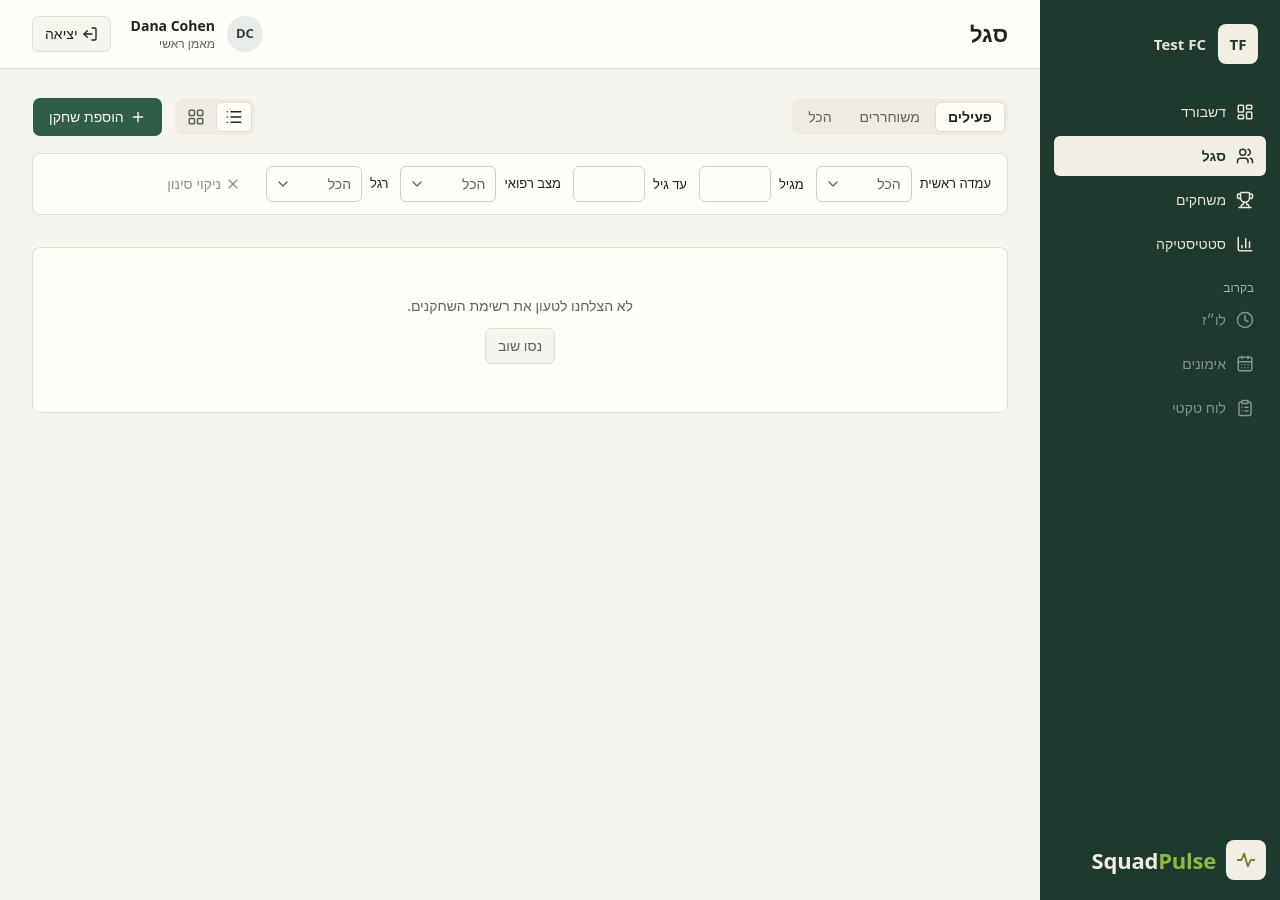
the list's states › shows an error with a retry when the list fails, and the retry can succeed
Check: the text "לא הצלחנו לטעון את רשימת השחקנים." is shown, box [407,296,633,316]
Check: the text "מוצג" is not shown
What coordinates should you click on to do the following:
click the button "נסו שוב"
I would click on:
 (520, 346)
Its box is [485,328,555,364].
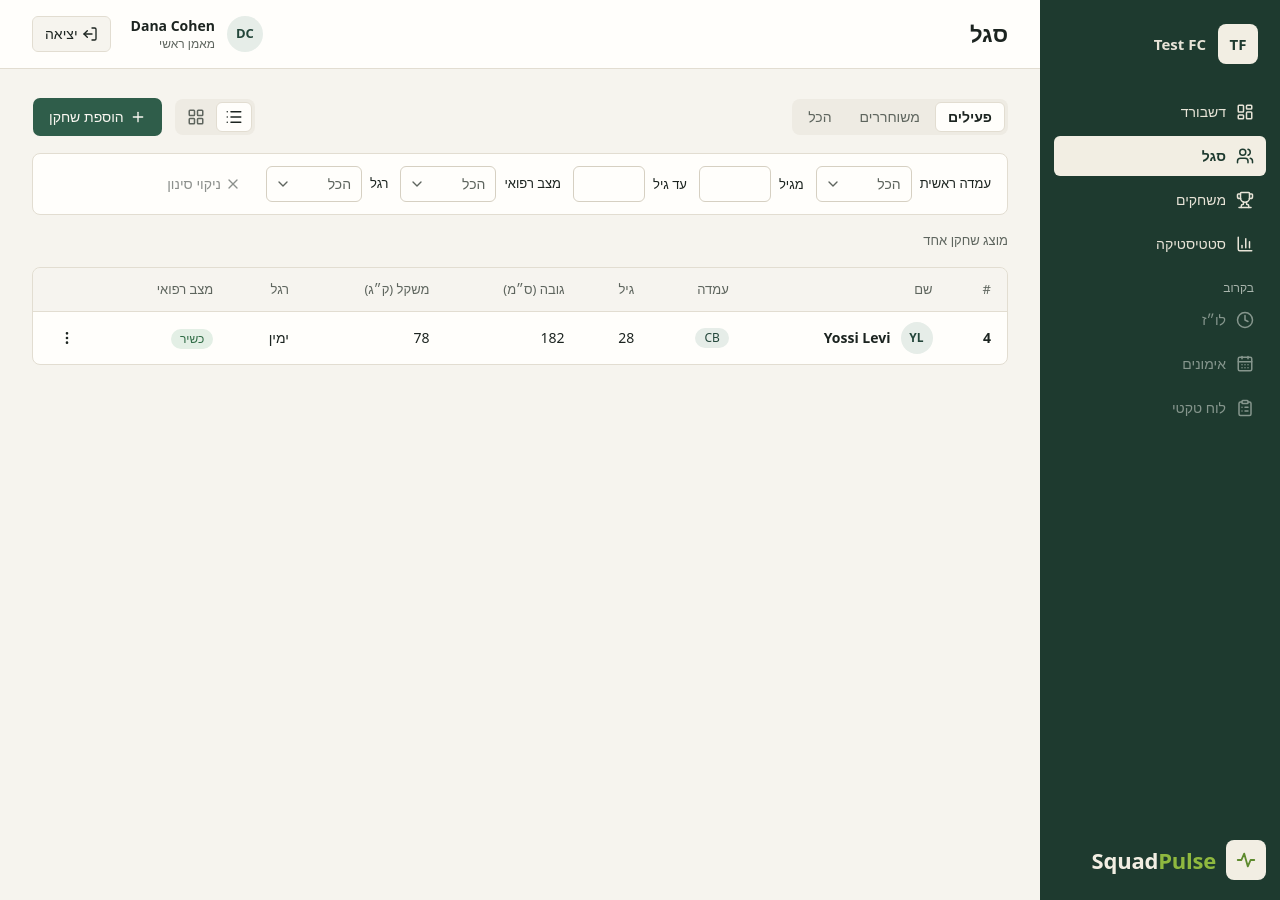
Check: the link "Yossi Levi" is shown, box [824,328,890,348]
Check: the text "לא הצלחנו לטעון את רשימת השחקנים." is gone
